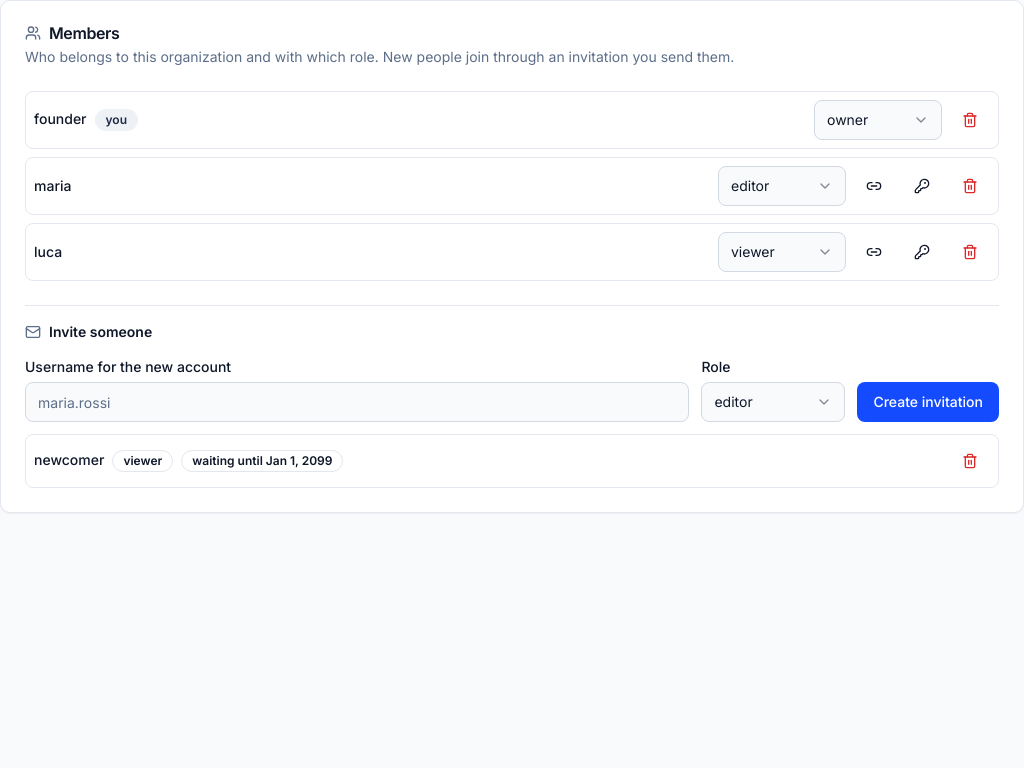
it: MembersCard › refuses a username too short to be one before asking the server
The image size is (1024, 768).
Expected: the text "maria" is shown, [34,177,71,194]
Type "ab" into the field labelled "Username for the new account" at {"x": 357, "y": 402}, box [25,382,689,422]
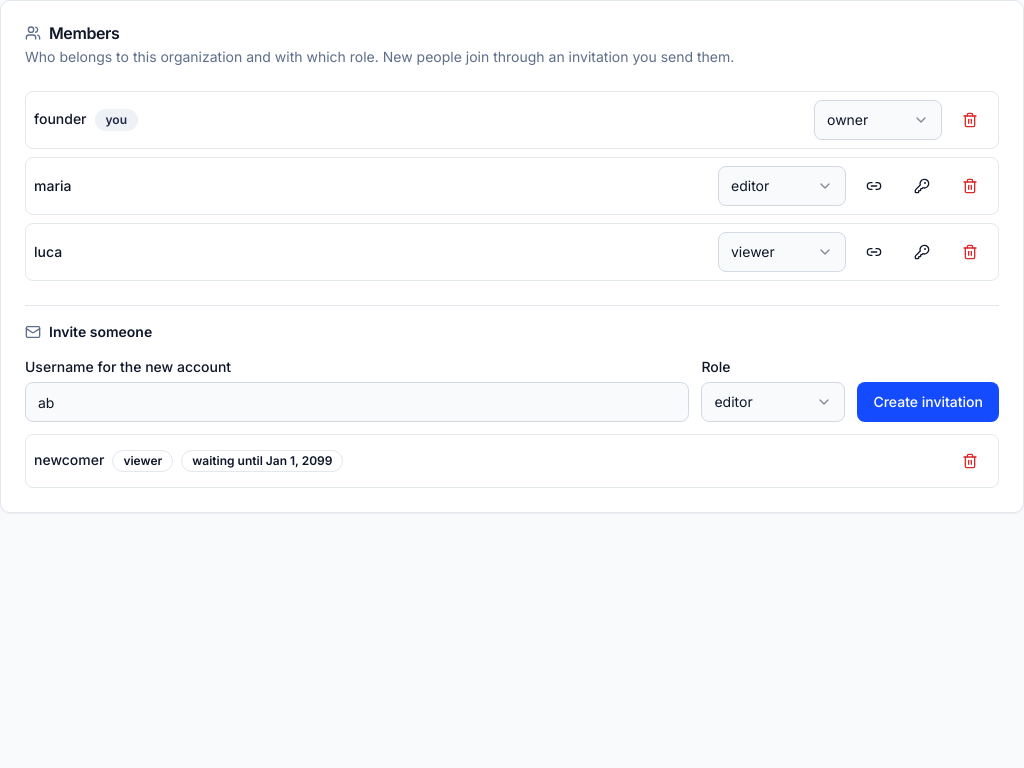
Click the button "Create invitation" at {"x": 928, "y": 402}, box [857,382,999,422]
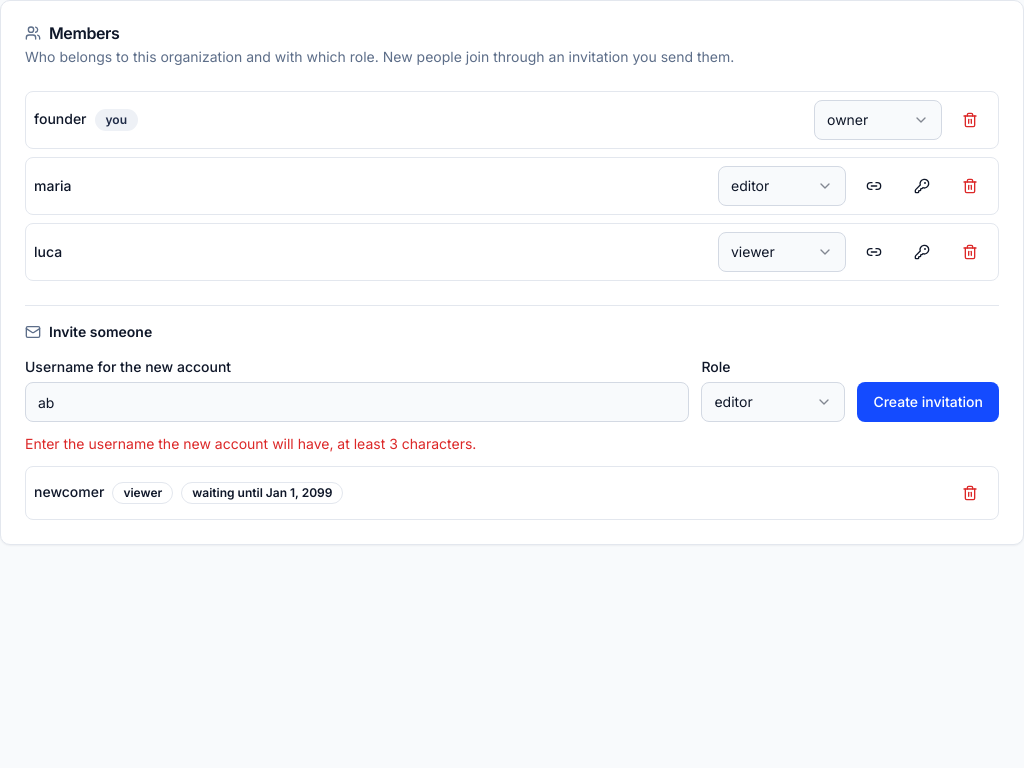
Expected: the text "at least 3 characters" is shown, [25,435,476,452]
